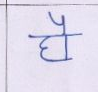ai_matra: (48, 12, 69, 34)
